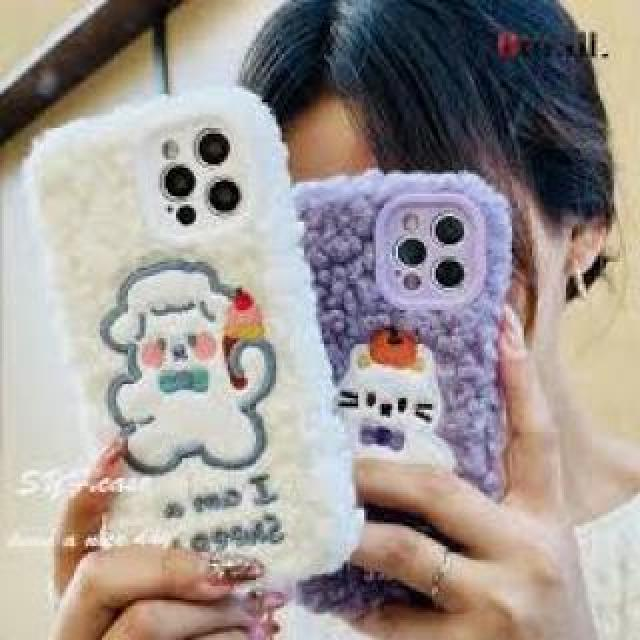smart phone: (10, 72, 348, 598), (328, 126, 540, 606)
